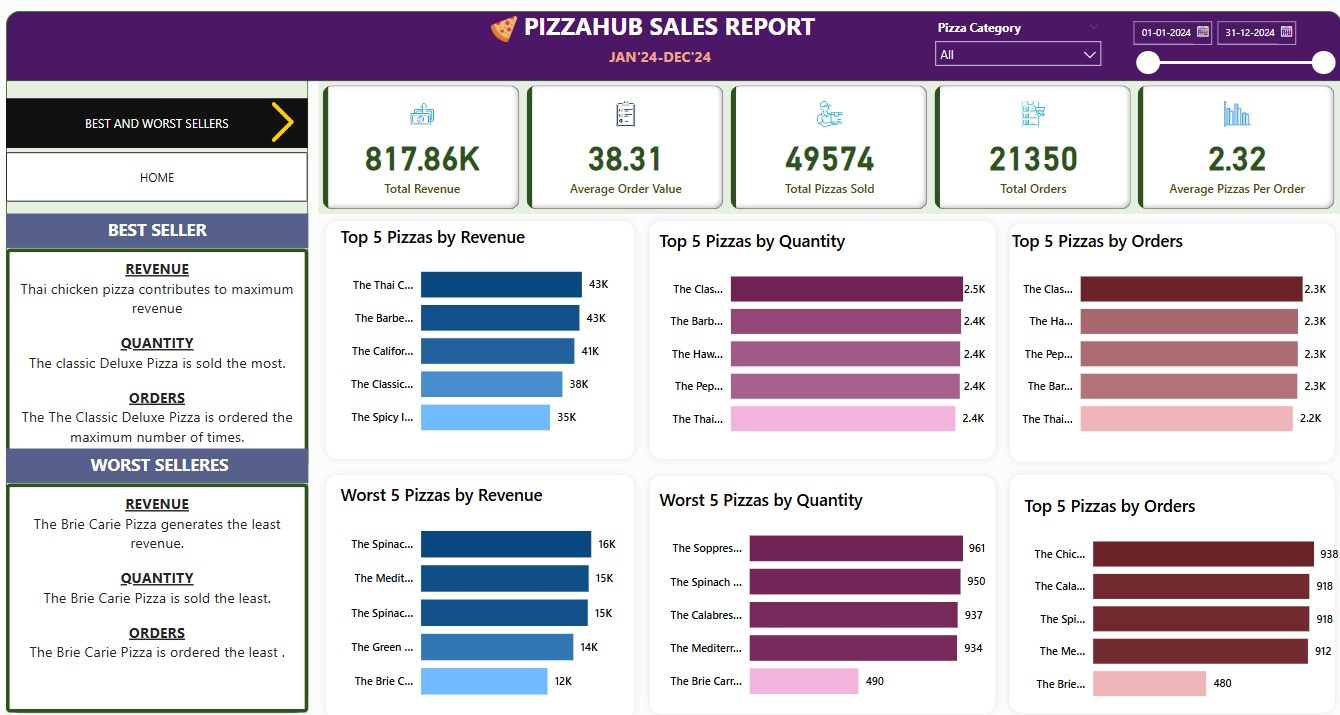

What the dashboard file says about the page in this screenshot:
{"tool":"powerbi","page":{"name":"BEST AND WORST SELLERS","canvas":[1500,820],"ordinal":1},"visuals":[{"type":"shape","box":[11.7,86.7,336.7,718.3],"z":0},{"type":"cardVisual","fields":{"Data":["pizza_sales.Total Revenue","pizza_sales.Average Order Value","pizza_sales.Total Pizzas Sold","pizza_sales.Total Orders","pizza_sales.Average Pizzas Per Order"]},"box":[360,100,1140,148.3],"z":1000},{"type":"shape","box":[11.7,21.7,1488.3,78.3],"z":2000},{"type":"textbox","box":[575,15,350,50],"z":3000},{"type":"textbox","box":[678.3,56.7,140,40],"z":4000},{"type":"image","box":[546.2,21.2,40,42.5],"z":5000},{"type":"shape","box":[360,248.3,360,281.7],"z":6000},{"type":"textbox","box":[11.7,248.3,336.7,38.3],"z":7000},{"type":"textbox","box":[11.7,286.7,336.7,245],"z":8000},{"type":"textbox","box":[11.7,510,336.7,38.3],"z":9000},{"type":"textbox","box":[11.7,548.3,336.7,255],"z":10000},{"type":"slicer","title":"Pizza Category","fields":{"Values":["pizza_sales.pizza_category"]},"box":[1036.7,26.7,205,60],"z":11000},{"type":"slicer","title":"Pizza Category","fields":{"Values":["pizza_sales.order_date"]},"box":[1255,23.3,245,73.3],"z":12000},{"type":"shape","box":[360,530,360,290],"z":13000},{"type":"shape","box":[720,248.3,401.7,281.7],"z":14000},{"type":"shape","box":[1121.7,250,378.3,281.7],"z":15000},{"type":"shape","box":[720,531.7,401.7,281.7],"z":16000},{"type":"shape","box":[1121.7,530,378.3,281.7],"z":17000},{"type":"barChart","title":"Top 5 Pizzas by Revenue","fields":{"Category":["pizza_sales.pizza_name"],"Y":["pizza_sales.Total Revenue"]},"box":[378.3,260,328.3,250],"z":18000},{"type":"barChart","title":"Worst 5 Pizzas by Revenue","fields":{"Category":["pizza_sales.pizza_name"],"Y":["pizza_sales.Total Revenue"]},"box":[378.3,548.3,328.3,256.7],"z":19000},{"type":"barChart","title":"Top 5 Pizzas by Quantity","fields":{"Category":["pizza_sales.pizza_name"],"Y":["pizza_sales.Total Pizzas Sold"]},"box":[733.3,260,373.3,250],"z":20000},{"type":"barChart","title":"Worst 5 Pizzas by Quantity","fields":{"Category":["pizza_sales.pizza_name"],"Y":["pizza_sales.Total Pizzas Sold"]},"box":[733.3,548.3,373.3,255],"z":21000},{"type":"barChart","title":"Top 5 Pizzas by Orders","fields":{"Category":["pizza_sales.pizza_name"],"Y":["pizza_sales.Total Orders"]},"box":[1126.7,260,360,250],"z":22000},{"type":"barChart","title":"Top 5 Pizzas by Orders","fields":{"Category":["pizza_sales.pizza_name"],"Y":["pizza_sales.Total Orders"]},"box":[1140,555,360,250],"z":23000},{"type":"pageNavigator","box":[11.7,120,336.7,55],"z":24000},{"type":"pageNavigator","box":[11.7,180,336.7,55],"z":25000},{"type":"image","box":[291.1,118.4,57.1,55.7],"z":26000}]}

Visuals, with their boxes in screenshot pixels (x1, y1, x2, y2), scaled from the page's 1500x820 canvas onto the 1340x715 screenshot:
shape: (10,76,311,702)
cardVisual - pizza_sales.Total Revenue x pizza_sales.Average Order Value: (322,87,1339,217)
shape: (10,19,1339,87)
textbox: (514,13,826,57)
textbox: (606,49,731,84)
image: (488,18,524,56)
shape: (322,217,643,462)
textbox: (10,217,311,250)
textbox: (10,250,311,464)
textbox: (10,445,311,478)
textbox: (10,478,311,700)
"Pizza Category" slicer: (926,23,1109,76)
"Pizza Category" slicer: (1121,20,1339,84)
shape: (322,462,643,714)
shape: (643,217,1002,462)
shape: (1002,218,1339,464)
shape: (643,464,1002,709)
shape: (1002,462,1339,708)
"Top 5 Pizzas by Revenue" barChart: (338,227,631,445)
"Worst 5 Pizzas by Revenue" barChart: (338,478,631,702)
"Top 5 Pizzas by Quantity" barChart: (655,227,989,445)
"Worst 5 Pizzas by Quantity" barChart: (655,478,989,700)
"Top 5 Pizzas by Orders" barChart: (1007,227,1328,445)
"Top 5 Pizzas by Orders" barChart: (1018,484,1339,702)
pageNavigator: (10,105,311,153)
pageNavigator: (10,157,311,205)
image: (260,103,311,152)
